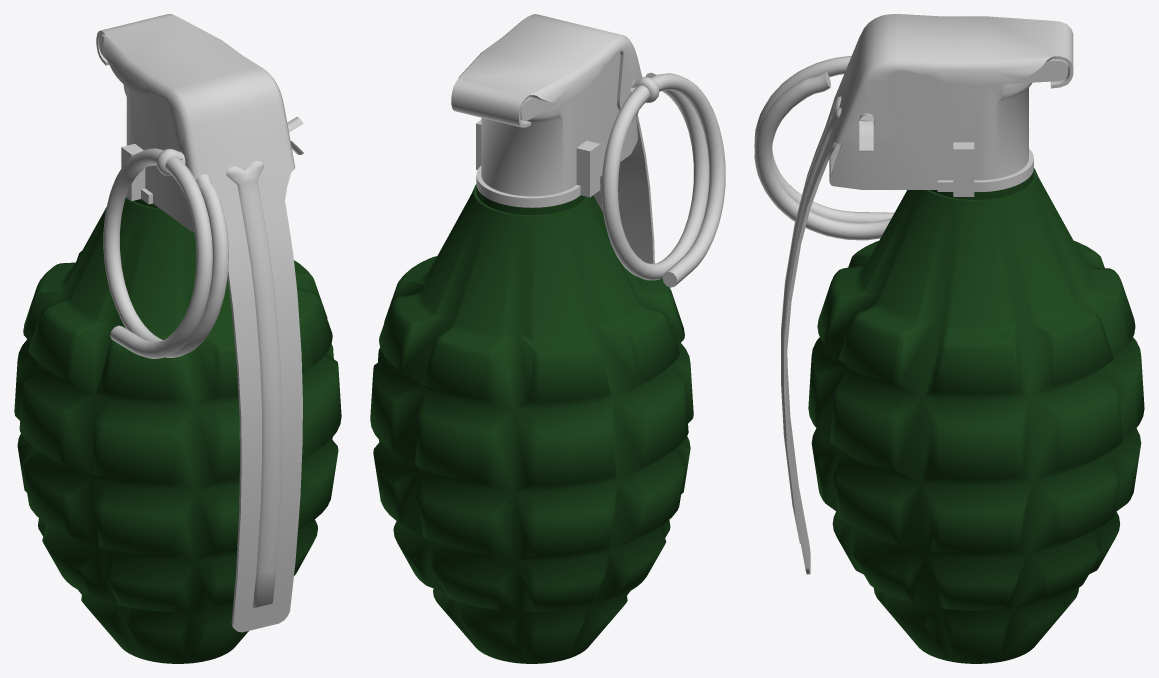
File: item06_granade.fbx
The picture shows the model from 3 angles, left to right: view 1: azimuth 30°, elevation 25°; view 2: azimuth 150°, elevation 25°; view 3: azimuth 270°, elevation 25°; orthographic projection. The views are drawn at different scales.
Visible parts, largest first — view 1: WPN_MK2Grenade; view 2: WPN_MK2Grenade; view 3: WPN_MK2Grenade.
Part boxes in pixels (x1,y1,x2,y2): WPN_MK2Grenade: (14,14,341,663); WPN_MK2Grenade: (370,14,725,663); WPN_MK2Grenade: (754,14,1144,663).
Size of the model in its own units: 5.78 by 11.42 by 6.71.
